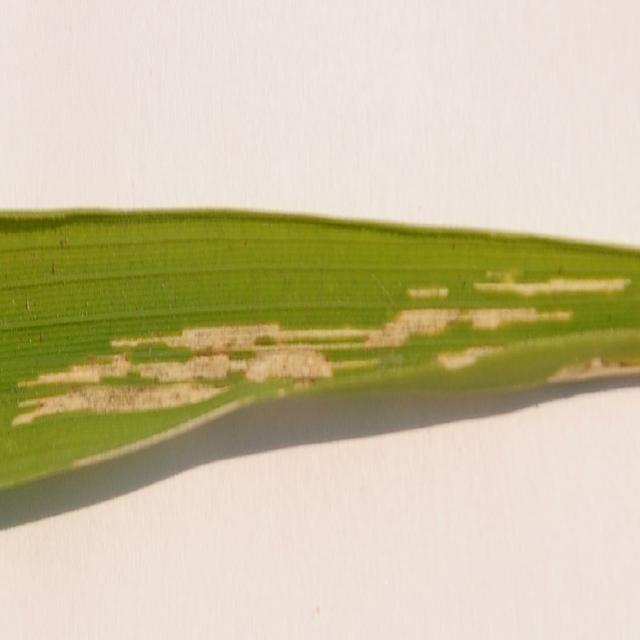leaf blight: (6, 291, 580, 444), (544, 335, 640, 396), (471, 265, 633, 299), (407, 275, 449, 303)
